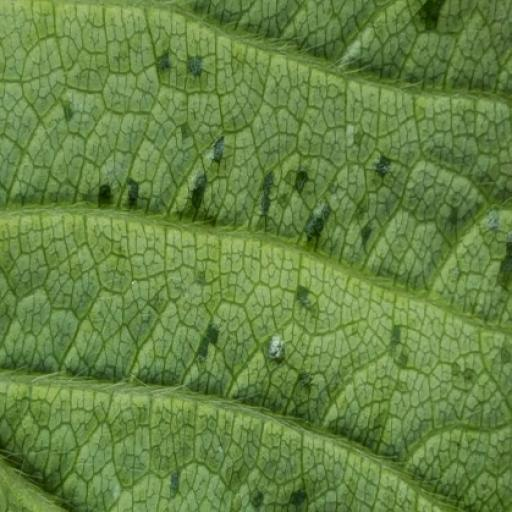Angular Leafspot: (59, 0, 511, 510)
